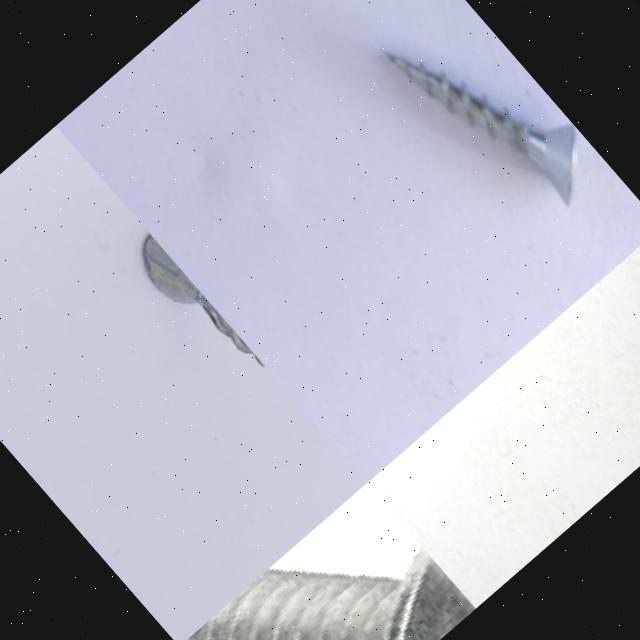Screw: (387, 55, 578, 207), (187, 542, 476, 640), (145, 235, 266, 367)
